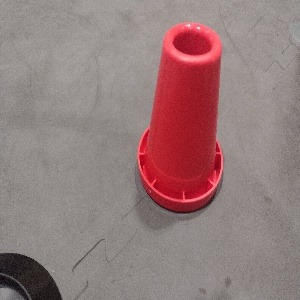Red_1: (136, 17, 225, 212)
